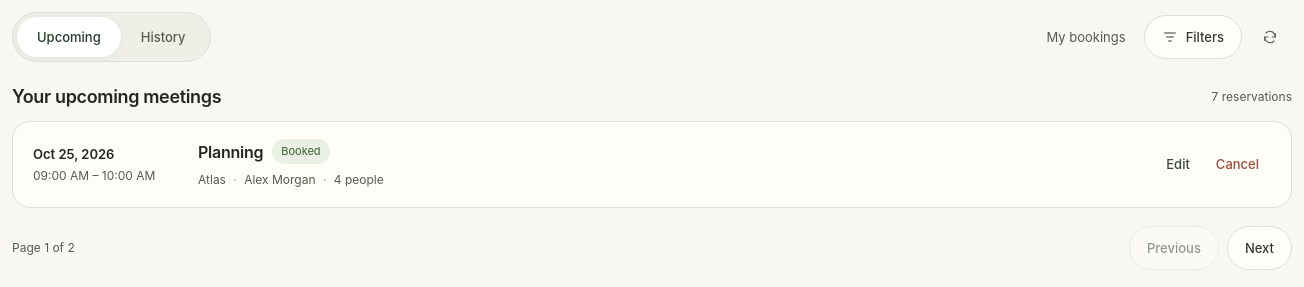
Test: reservation schedule › requests the second page on Next and starts history at page one only after it is selected
The image size is (1304, 287).
Expected: the heading "Planning" is shown, left=198, top=142, right=263, bottom=162
Click the button "Next" at (1259, 248), box left=1227, top=226, right=1292, bottom=270
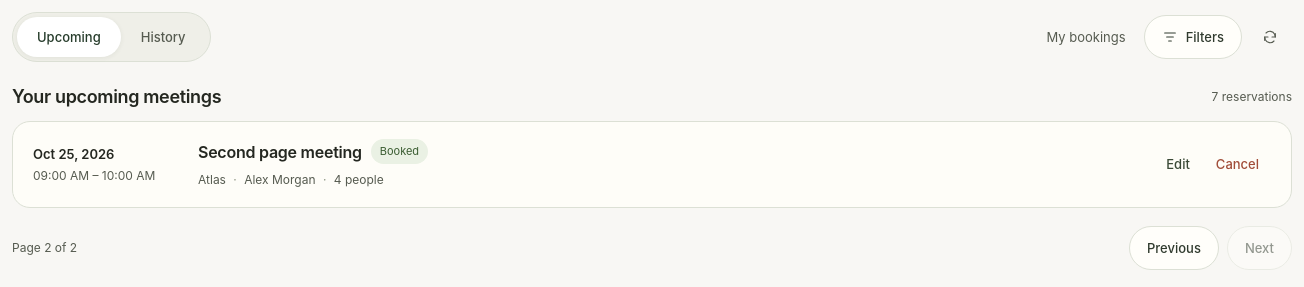
Expected: the heading "Second page meeting" is shown, left=198, top=142, right=362, bottom=162
Expected: the text "Page 2 of 2" is shown, left=12, top=240, right=77, bottom=255
Click the button "History" at (163, 37), box left=121, top=17, right=206, bottom=57
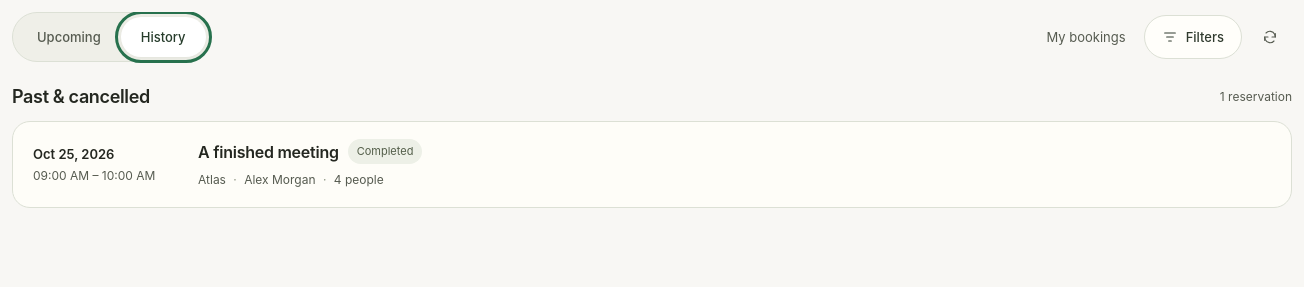
Expected: the heading "A finished meeting" is shown, left=198, top=142, right=339, bottom=162
Expected: the heading "Second page meeting" is gone
